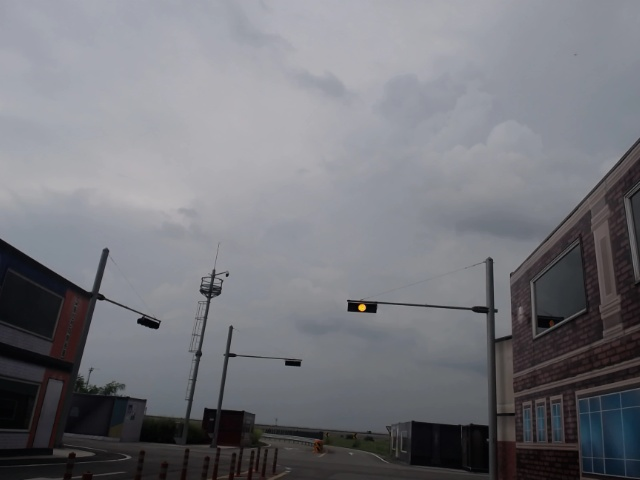orange_3: (347, 300, 377, 313)
